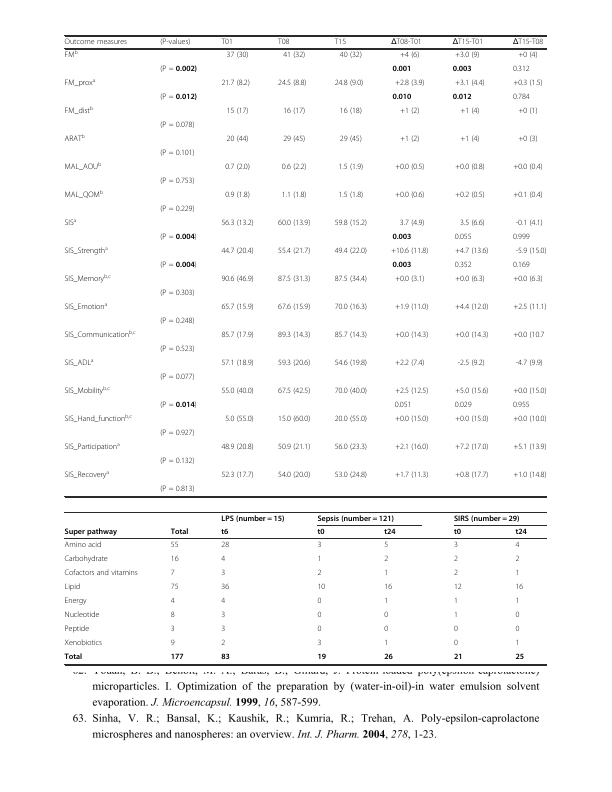borderless: (63, 33, 546, 496), (63, 510, 546, 664)
cell: (64, 329, 137, 340), (64, 413, 133, 424), (64, 568, 139, 578), (316, 514, 395, 523), (64, 441, 121, 452), (453, 514, 520, 523), (220, 514, 285, 523), (64, 38, 128, 47), (64, 527, 118, 537), (64, 273, 112, 284), (64, 385, 111, 396), (64, 469, 110, 480), (64, 245, 109, 256), (64, 301, 108, 312), (64, 554, 109, 564), (64, 189, 104, 200), (64, 161, 102, 172), (64, 638, 103, 648), (64, 540, 102, 550), (64, 610, 100, 620), (64, 77, 96, 88), (159, 65, 198, 74), (159, 93, 198, 102), (159, 233, 198, 242), (390, 247, 429, 256), (159, 261, 198, 270), (159, 401, 198, 410), (64, 105, 94, 116), (64, 357, 94, 368), (159, 121, 195, 130), (159, 149, 195, 158), (159, 177, 195, 186), (159, 205, 195, 214), (159, 289, 195, 298), (159, 317, 195, 326), (159, 345, 195, 354), (159, 373, 195, 382), (159, 429, 195, 438), (159, 457, 195, 466), (159, 485, 195, 494), (220, 219, 255, 228), (220, 247, 255, 256), (454, 247, 489, 256), (220, 275, 255, 284), (220, 303, 255, 312), (394, 303, 429, 312), (454, 303, 489, 312), (512, 303, 547, 312), (220, 331, 255, 340), (394, 331, 429, 340), (454, 331, 489, 340), (220, 359, 255, 368), (220, 387, 255, 396), (394, 387, 429, 396), (454, 387, 489, 396), (512, 387, 547, 396), (394, 415, 429, 424), (454, 415, 489, 424), (512, 415, 547, 424), (220, 443, 255, 452), (394, 443, 429, 452), (454, 443, 489, 452), (512, 443, 547, 452), (220, 471, 255, 480), (394, 471, 429, 480), (454, 471, 489, 480), (512, 471, 547, 480), (277, 219, 311, 228), (334, 219, 368, 228), (277, 247, 311, 256), (334, 247, 368, 256), (277, 275, 311, 284), (334, 275, 368, 284), (277, 303, 311, 312), (334, 303, 368, 312), (277, 331, 311, 340), (334, 331, 368, 340), (277, 359, 311, 368), (334, 359, 368, 368), (277, 387, 311, 396), (334, 387, 368, 396), (277, 415, 311, 424), (334, 415, 368, 424), (277, 443, 311, 452), (334, 443, 368, 452), (277, 471, 311, 480), (334, 471, 368, 480), (390, 38, 423, 47), (512, 331, 545, 340), (159, 38, 191, 47), (452, 38, 484, 47), (512, 38, 544, 47), (454, 79, 486, 88), (512, 79, 544, 88), (454, 163, 486, 172), (512, 163, 544, 172), (454, 191, 486, 200), (512, 191, 544, 200), (515, 247, 547, 256), (454, 275, 486, 284), (512, 275, 544, 284), (220, 79, 251, 88), (394, 79, 425, 88), (394, 163, 425, 172), (394, 191, 425, 200), (394, 275, 425, 284), (394, 359, 425, 368), (224, 415, 255, 424), (277, 79, 307, 88), (334, 79, 364, 88), (515, 219, 544, 228), (457, 359, 486, 368), (515, 359, 544, 368), (64, 624, 90, 634), (224, 163, 251, 172), (337, 163, 364, 172), (224, 191, 251, 200), (337, 191, 364, 200), (459, 219, 486, 228), (64, 133, 86, 144), (454, 51, 480, 60), (281, 163, 307, 172), (281, 191, 307, 200), (399, 219, 425, 228), (64, 596, 87, 606), (282, 51, 306, 60), (339, 51, 363, 60), (282, 107, 306, 116), (339, 107, 363, 116), (282, 135, 306, 144), (339, 135, 363, 144), (226, 51, 249, 60), (226, 107, 249, 116), (226, 135, 249, 144), (170, 527, 189, 537), (64, 652, 83, 662), (399, 51, 420, 60), (517, 51, 538, 60), (399, 107, 420, 116), (459, 107, 480, 116), (517, 107, 538, 116), (399, 135, 420, 144), (459, 135, 480, 144), (517, 135, 538, 144), (64, 582, 81, 592), (391, 65, 412, 73), (391, 93, 412, 101), (391, 233, 412, 241), (391, 261, 412, 269), (64, 49, 79, 60), (512, 65, 530, 74), (512, 93, 530, 102), (454, 233, 472, 242), (512, 233, 530, 242), (454, 261, 472, 270), (512, 261, 530, 270), (394, 401, 412, 410), (454, 401, 472, 410), (512, 401, 530, 410), (452, 65, 472, 73), (452, 93, 472, 101), (64, 217, 77, 228), (383, 527, 397, 537), (514, 527, 528, 537), (170, 652, 184, 662), (220, 38, 234, 47), (277, 38, 290, 47), (334, 38, 347, 47), (220, 652, 231, 662), (316, 652, 327, 662), (383, 652, 394, 662), (514, 652, 525, 662), (220, 540, 230, 550), (220, 582, 230, 592), (316, 582, 326, 592), (383, 582, 393, 592), (453, 582, 463, 592), (514, 582, 524, 592), (453, 652, 463, 662), (220, 527, 229, 537), (316, 527, 325, 537), (453, 527, 462, 537), (170, 540, 179, 550), (170, 554, 179, 564), (170, 582, 179, 592), (316, 540, 322, 550), (383, 540, 389, 550), (453, 540, 459, 550), (514, 540, 520, 550), (220, 554, 226, 564), (316, 554, 322, 564), (383, 554, 389, 564), (453, 554, 459, 564), (514, 554, 520, 564), (170, 568, 176, 578), (220, 568, 226, 578), (316, 568, 322, 578), (383, 568, 389, 578), (453, 568, 459, 578), (514, 568, 520, 578), (170, 596, 176, 606), (220, 596, 226, 606), (316, 596, 322, 606), (383, 596, 389, 606), (453, 596, 459, 606), (514, 596, 520, 606), (170, 610, 176, 620), (220, 610, 226, 620), (316, 610, 322, 620), (383, 610, 389, 620), (453, 610, 459, 620), (514, 610, 520, 620), (170, 624, 176, 634), (220, 624, 226, 634), (316, 624, 322, 634), (383, 624, 389, 634), (453, 624, 459, 634), (514, 624, 520, 634), (170, 638, 176, 648), (220, 638, 226, 648), (316, 638, 322, 648), (383, 638, 389, 648), (453, 638, 459, 648), (514, 638, 520, 648)
